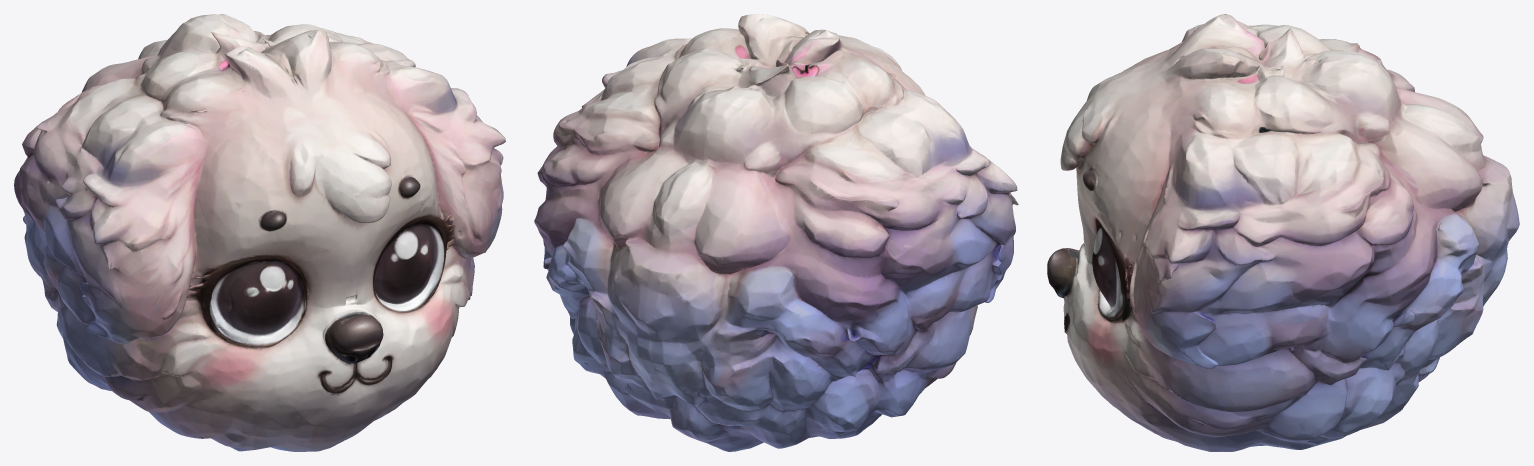
Rendered from dog.glb.
The picture shows the model from 3 angles, left to right: view 1: azimuth 30°, elevation 25°; view 2: azimuth 150°, elevation 25°; view 3: azimuth 270°, elevation 25°; orthographic projection.
Size of the model in its own units: 2 by 1.83 by 2.
Materials: 1 (1 with a texture image).
